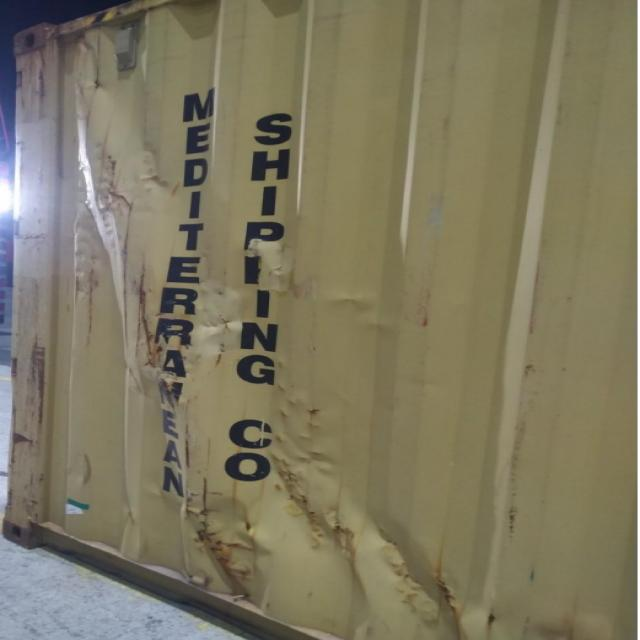dent: (38, 1, 415, 640)
